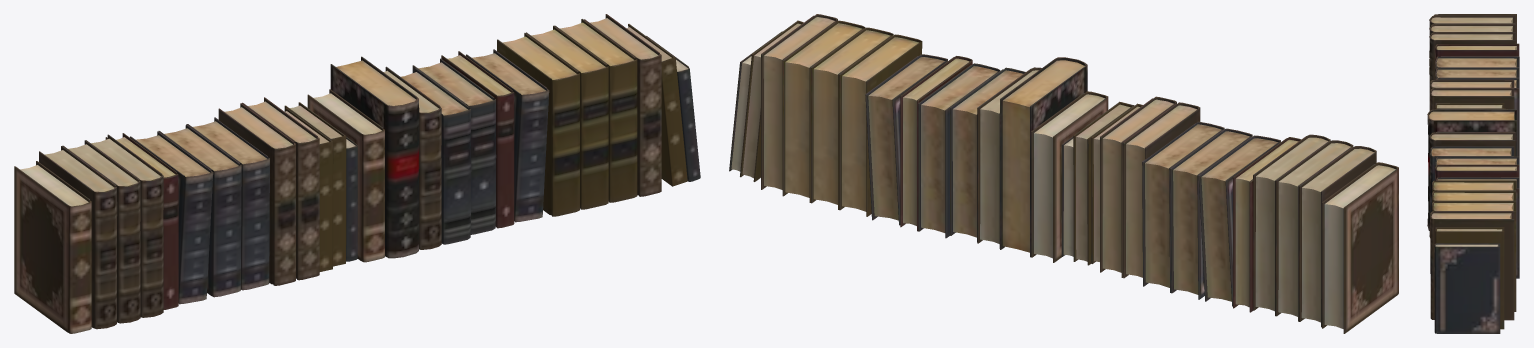
File: SM_BooksSet01_5b1a43.glb
3 views of the same model, side by side, from view 1: azimuth 30°, elevation 25°; view 2: azimuth 150°, elevation 25°; view 3: azimuth 270°, elevation 25° (orthographic). The views are drawn at different scales.
Size of the model in its own units: 1.3 by 0.3 by 0.2228.
Materials: 1 (1 with a texture image).
